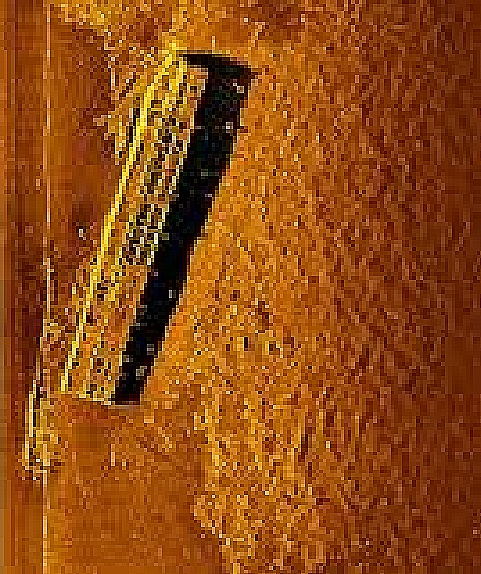ship: (60, 51, 209, 406)
